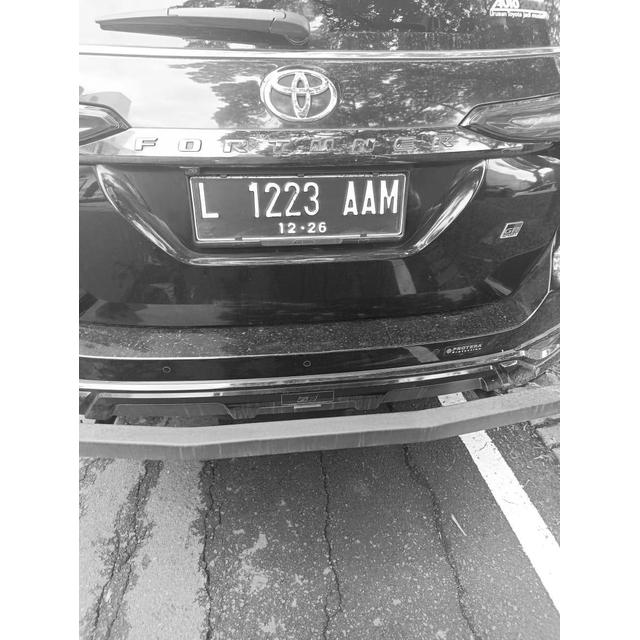license: (195, 178, 402, 237)
